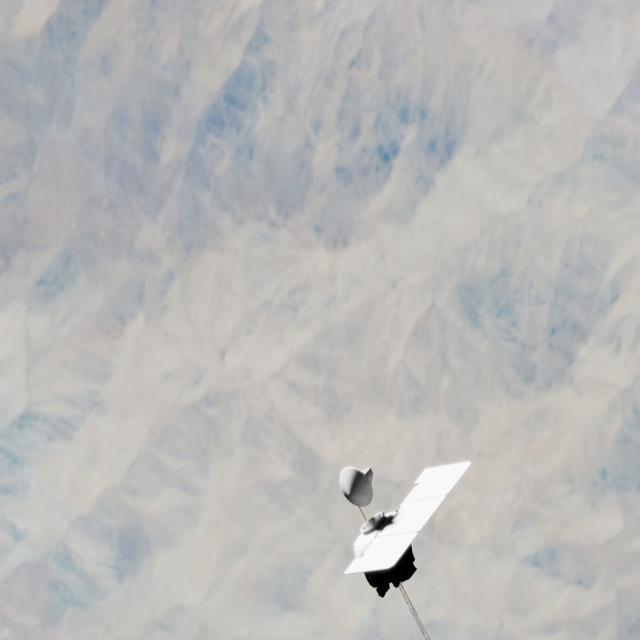satellite: (327, 437, 483, 639)
